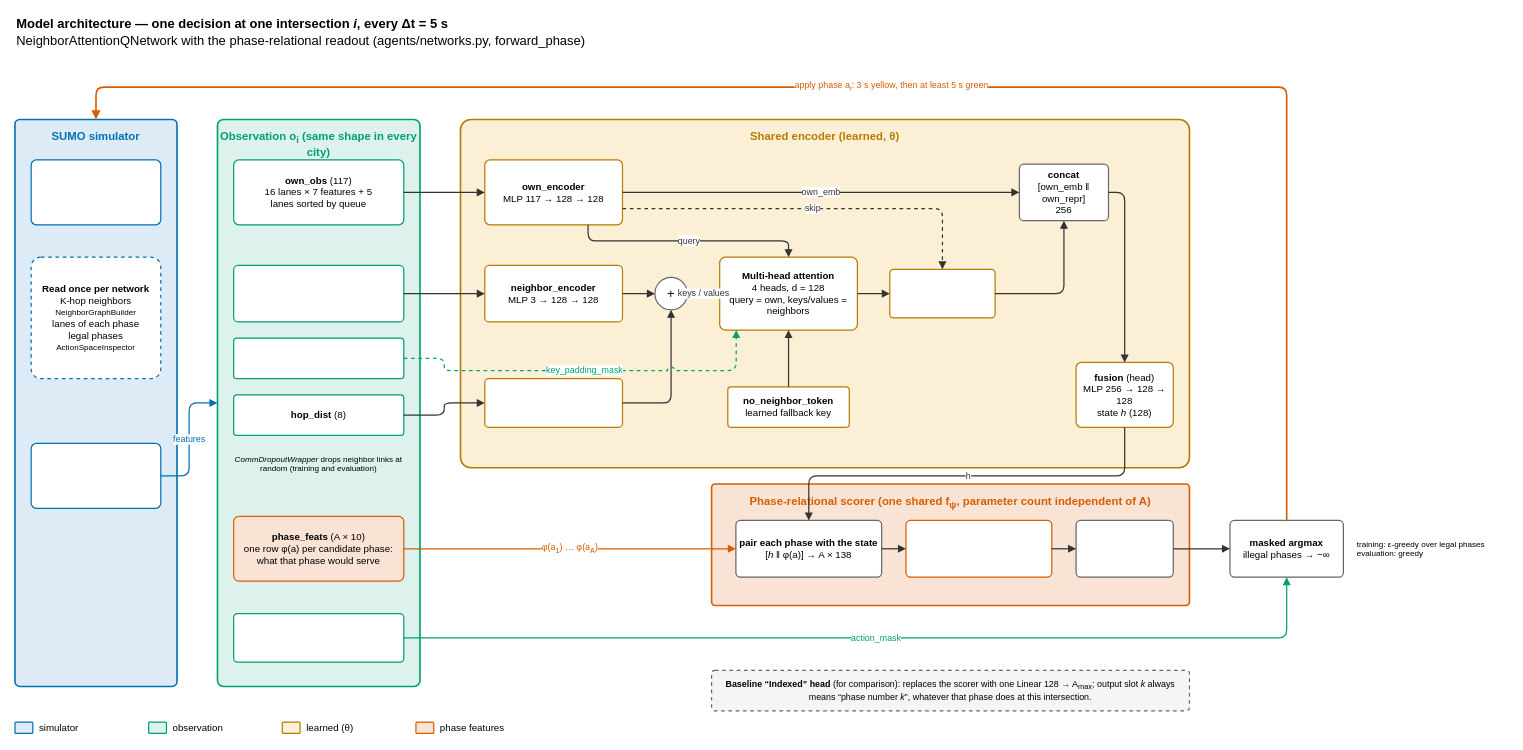
Some shapes in this 1523 by 750 pixel diagram are drawn without their labels. The shapes that lost their labels are listed below. From the top down, each one's centre as x and y in pixels, then its label:
At (x=95, y=192): "Road network intersection i and its neighbors".
At (x=318, y=293): "neighbor_obs (8 × 3) zero-padded to K max = 8".
At (x=942, y=293): "Residual + LayerNorm own_repr".
At (x=318, y=358): "neighbor_mask (8) 1 = live, 0 = padded or dropped".
At (x=553, y=403): "hop_embedding Embedding(5, 128)".
At (x=95, y=476): "Live state through TraCI / libsumo every 5 s".
At (x=978, y=548): "phase_scorer f ψ MLP 138 → 128 → 128 → 1 applied to every phase".
At (x=1124, y=548): "Q(a) one value per phase (A)".
At (x=318, y=637): "action_mask (A) 1 = legal phase, 0 = padding".
